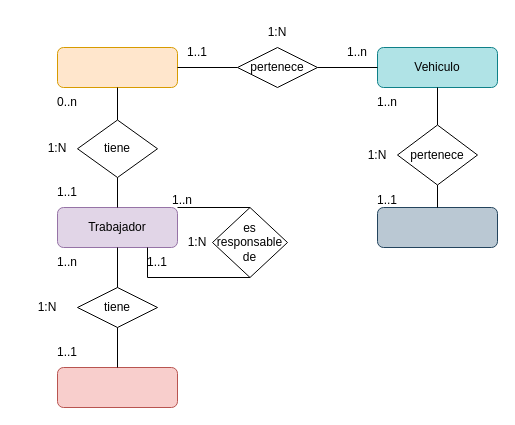
Image size: 515x425. Some labels were removed from this diagram. The shapes that lost their labels are listed below. From the top down, each one's centre as x and y in pixels, then its label:
the point at 117,67: Informe
the point at 437,227: Propietario
the point at 117,387: EstacionITV
